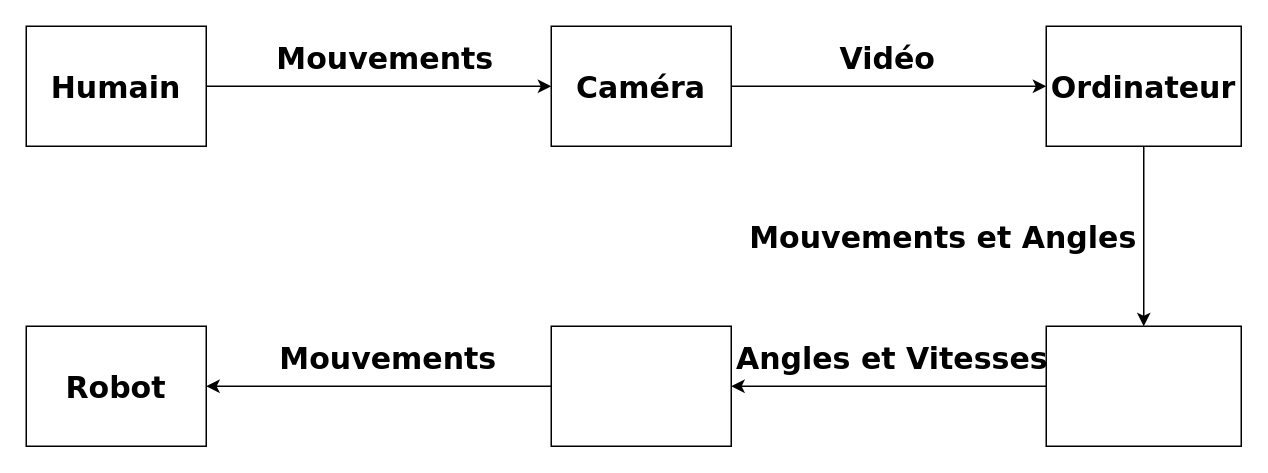
Image size: 1268x473. Some labels were removed from this diagram. Here are the shapes that lost their labels. From the top down, the centre of each, then its label:
At point 640,385: "Moteurs".
At point 1143,385: "Arduino".
